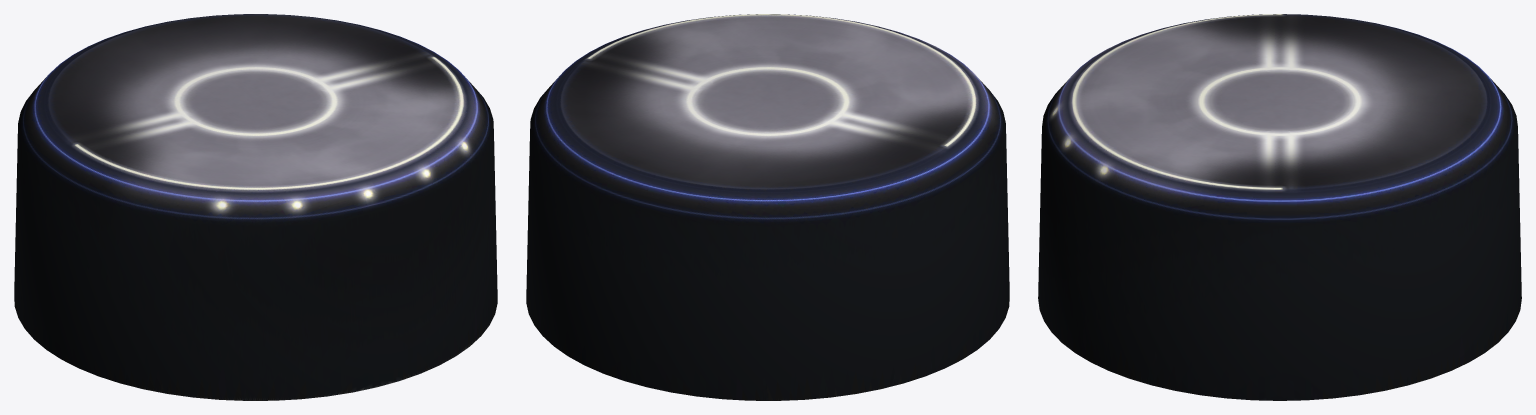
Rendered from MeloettaEncounterStage_Aria.fbx.
3 views of the same model, side by side, from view 1: azimuth 30°, elevation 25°; view 2: azimuth 150°, elevation 25°; view 3: azimuth 270°, elevation 25° (orthographic).
Parts seen in each view (by area): view 1: stage_floor; view 2: stage_floor; view 3: stage_floor.
Boxes of the visible parts, <box> form: stage_floor: <box>14,14,497,400</box>; stage_floor: <box>526,14,1009,400</box>; stage_floor: <box>1038,14,1521,400</box>.
Bounding box in the file's own units: 1.84 × 0.8258 × 1.84.
